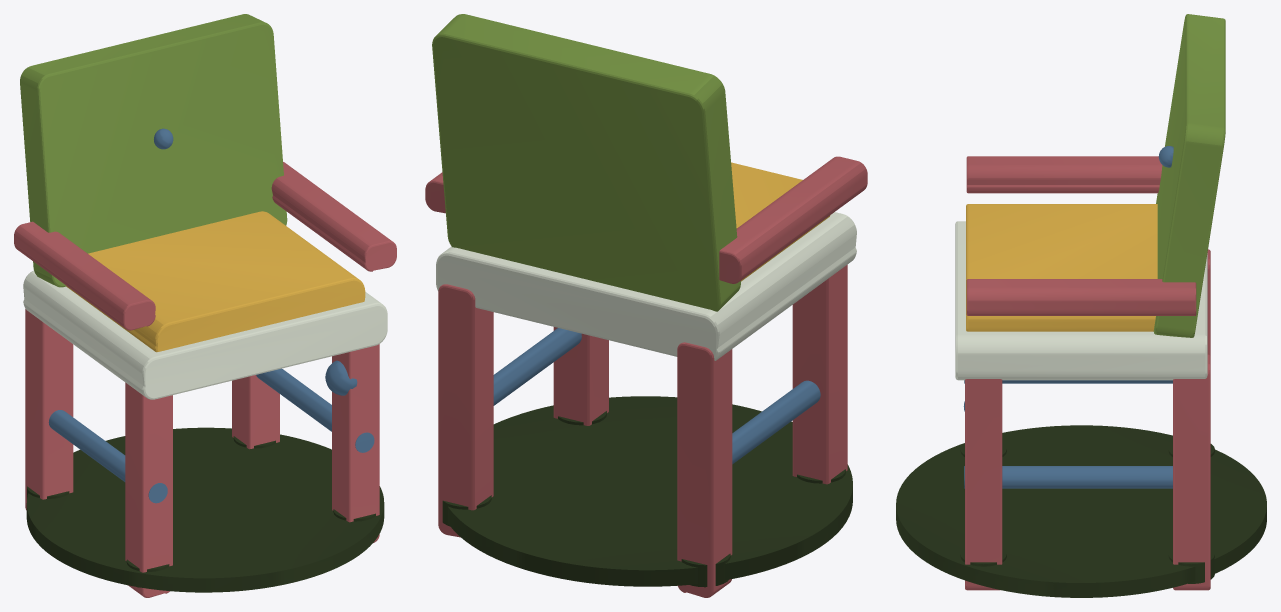
File: 0965_农业科技图鉴_稻鸭共作.glb
3 renders of one model, left to right at view 1: azimuth 30°, elevation 25°; view 2: azimuth 150°, elevation 25°; view 3: azimuth 270°, elevation 25°, orthographic. The views are drawn at different scales.
Parts seen in each view (by area): view 1: card_0965; view 2: card_0965; view 3: card_0965.
Boxes of the visible parts, x1,y1,x2,y2 form: card_0965: (14,14,396,597); card_0965: (425,14,867,597); card_0965: (896,14,1266,597).
Bounding box in the file's own units: 0.7297 × 1 × 0.725.
